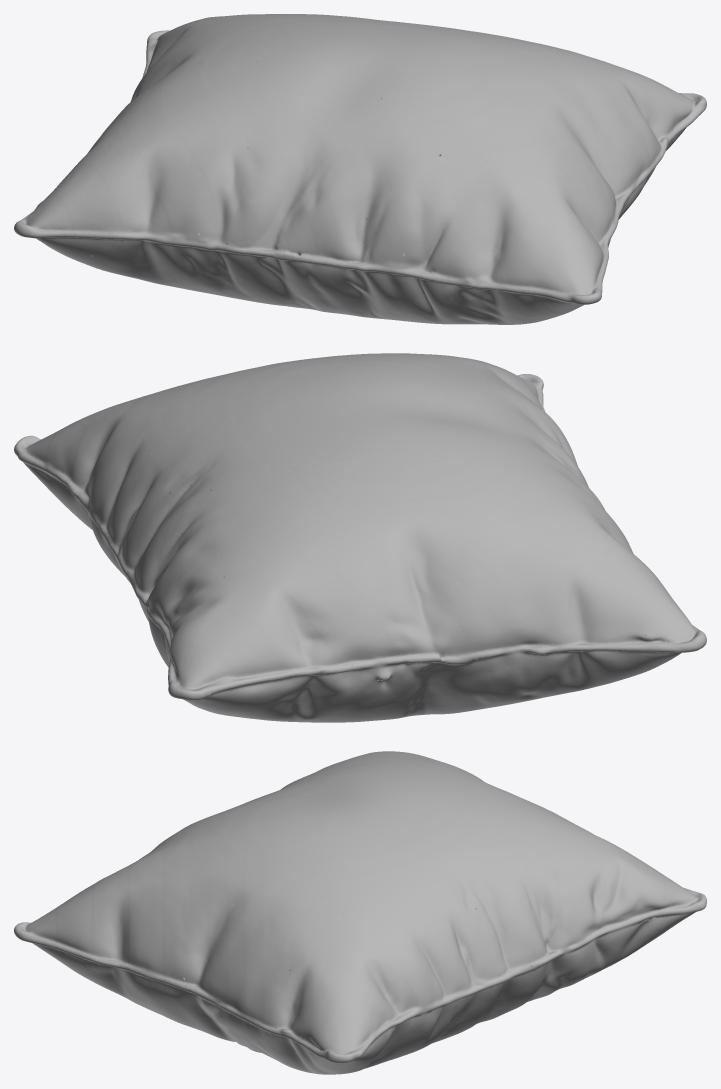
Rendered from tripo_convert_0128b25a-3b97-4142-bf74-3e5b9986160e.fbx.
3 renders of one model, top to bottom at view 1: azimuth 30°, elevation 25°; view 2: azimuth 150°, elevation 25°; view 3: azimuth 270°, elevation 25°, orthographic. The views are drawn at different scales.
Visible parts, largest first — view 1: tripo_node_0128b25a; view 2: tripo_node_0128b25a; view 3: tripo_node_0128b25a.
Part boxes in pixels (box(x1,y1,x2,y2)): tripo_node_0128b25a: box(14, 14, 706, 324); tripo_node_0128b25a: box(14, 353, 706, 722); tripo_node_0128b25a: box(14, 751, 706, 1074).
Size of the model in its own units: 99.88 by 31.48 by 100.
Materials: 1 (1 with a texture image).
